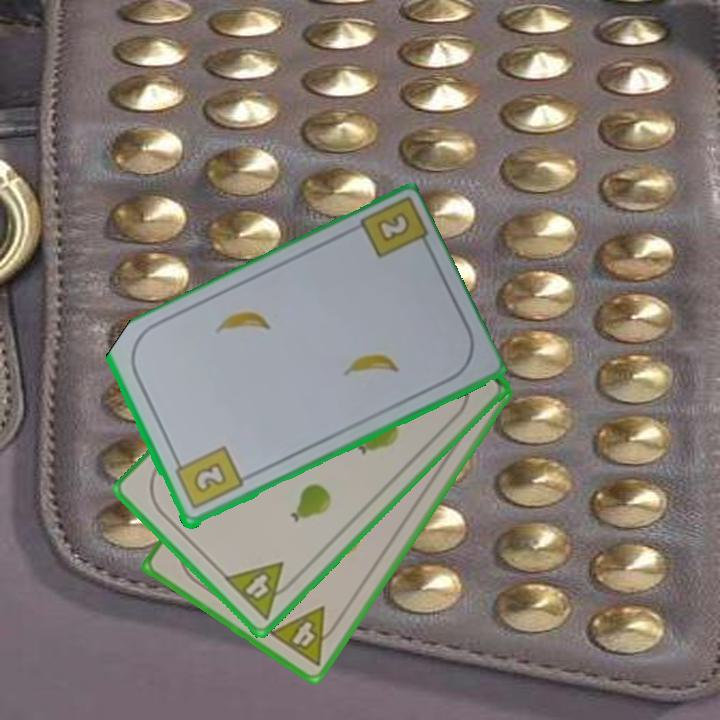2b: (171, 443, 246, 513), (372, 209, 413, 246)
4p: (265, 603, 345, 670), (220, 558, 301, 623)
